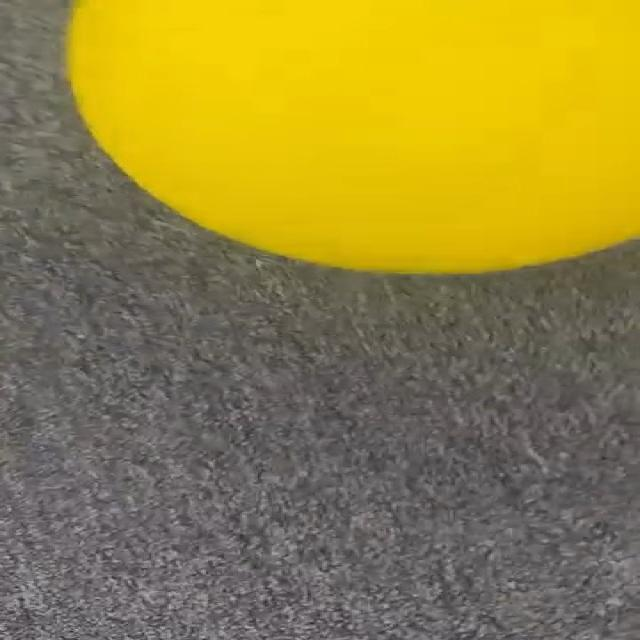Fuels: (69, 0, 638, 272)
